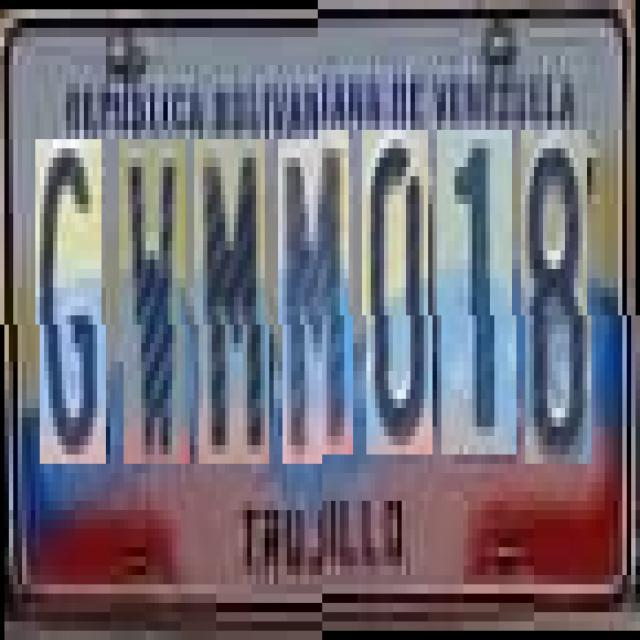0: (367, 139, 432, 464)
1: (442, 139, 516, 464)
8: (526, 139, 592, 473)
G: (40, 139, 106, 464)
M: (198, 139, 270, 464), (282, 139, 354, 464)
W: (124, 139, 190, 464)
